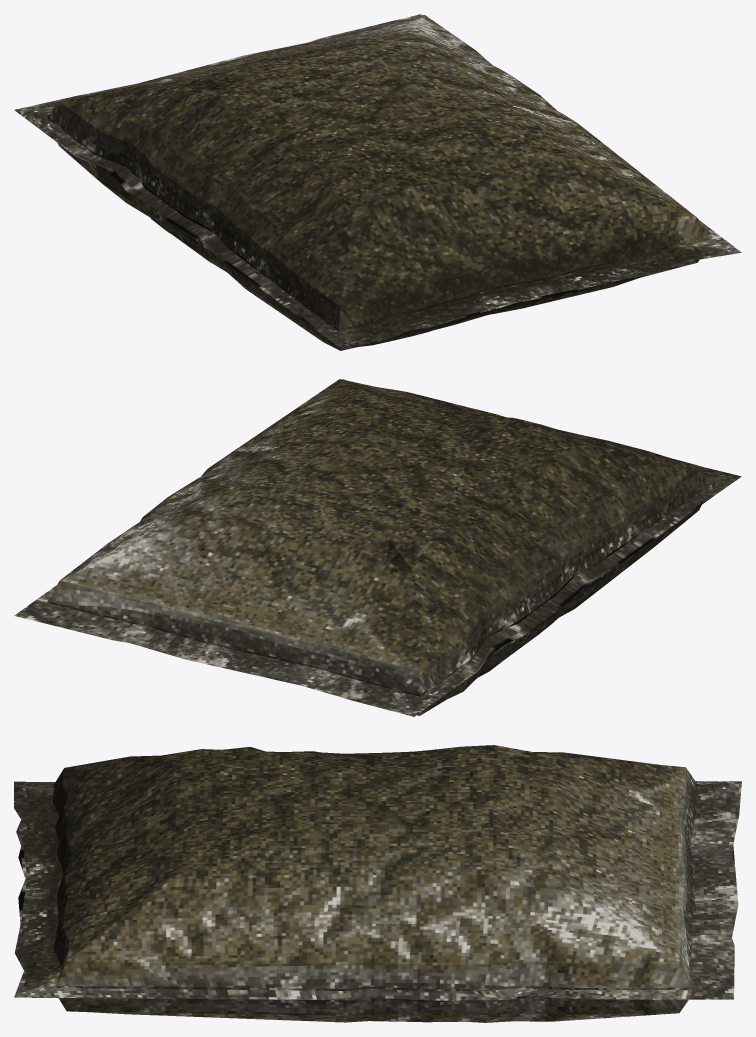
File: weedbag.glb
3 views of the same model, one above another, from view 1: azimuth 30°, elevation 25°; view 2: azimuth 150°, elevation 25°; view 3: azimuth 270°, elevation 25° (orthographic). The views are drawn at different scales.
Parts seen in each view (by area): view 1: Plane; view 2: Plane; view 3: Plane.
Part boxes in pixels (left/top/right/bottom): Plane: left=14, top=14, right=741, bottom=350; Plane: left=14, top=379, right=741, bottom=716; Plane: left=14, top=745, right=741, bottom=1022.
Bounding box in the file's own units: 2.29 × 0.8213 × 3.2.
Materials: 1 (1 with a texture image).
